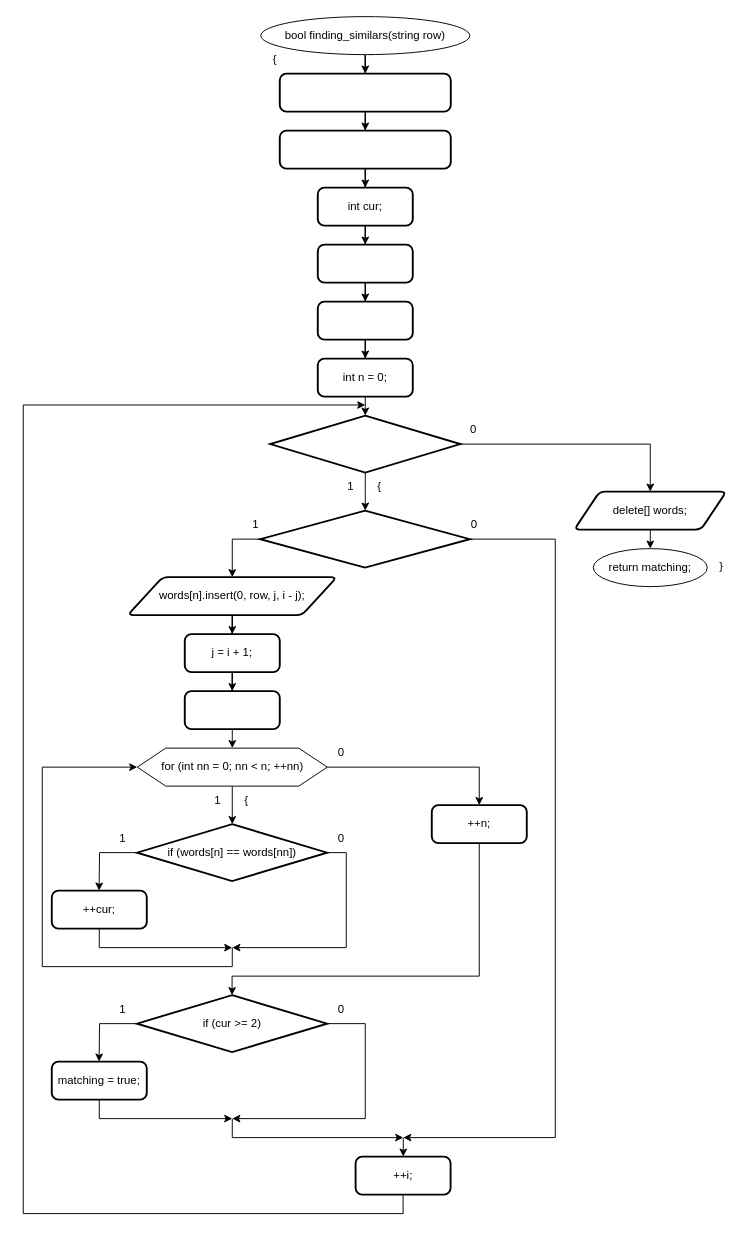
The diagram is 752 pixels wide and 1238 high, and some of its shapes have lost their labels. Each missing label, with the box of its shape:
bool matching = false;: (278, 72, 451, 112)
cur = 1;: (183, 690, 280, 730)
if ((row[i] == 32) || (row[i] == '\0')): (259, 509, 470, 568)
int i = 0;: (316, 243, 413, 283)
int j = 0;: (316, 300, 413, 340)
string* words = new string[100];: (278, 129, 451, 169)
while (i <= size(row)): (269, 414, 461, 473)
